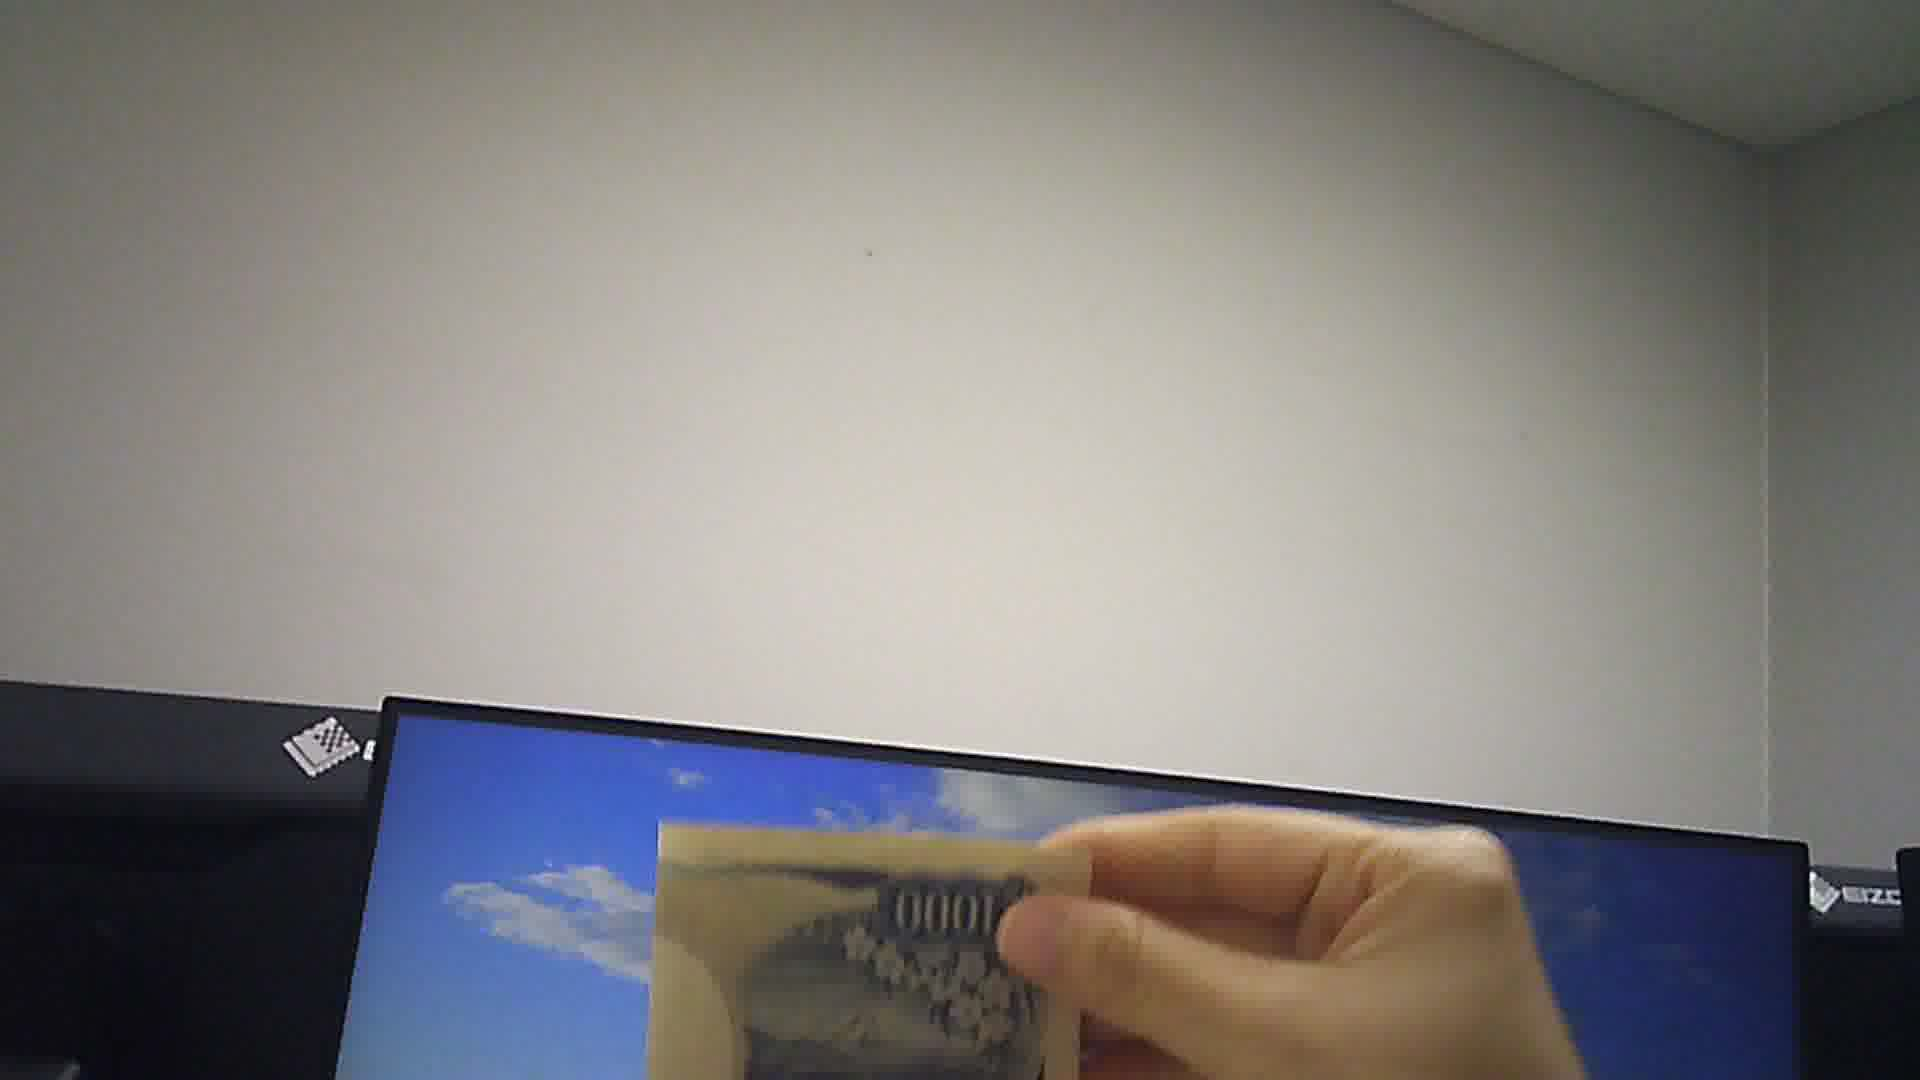1,000 Yen: (636, 804, 1096, 1077)
